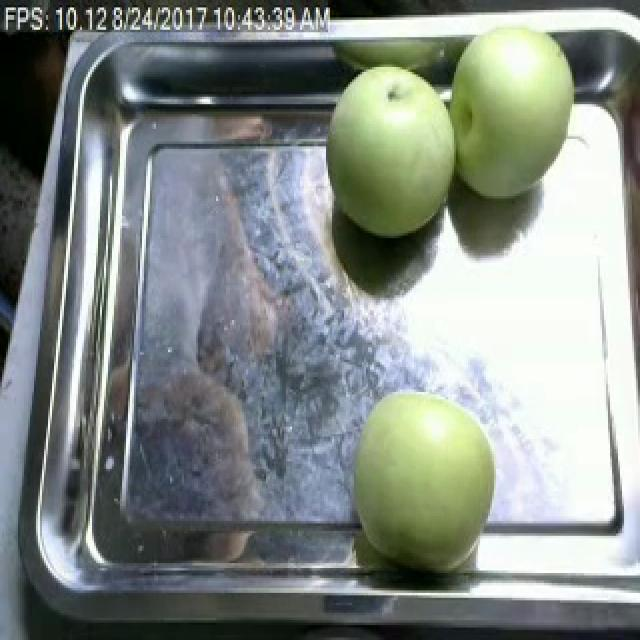50-_ripeness: (348, 390, 502, 580), (322, 65, 455, 255), (446, 27, 575, 201)
